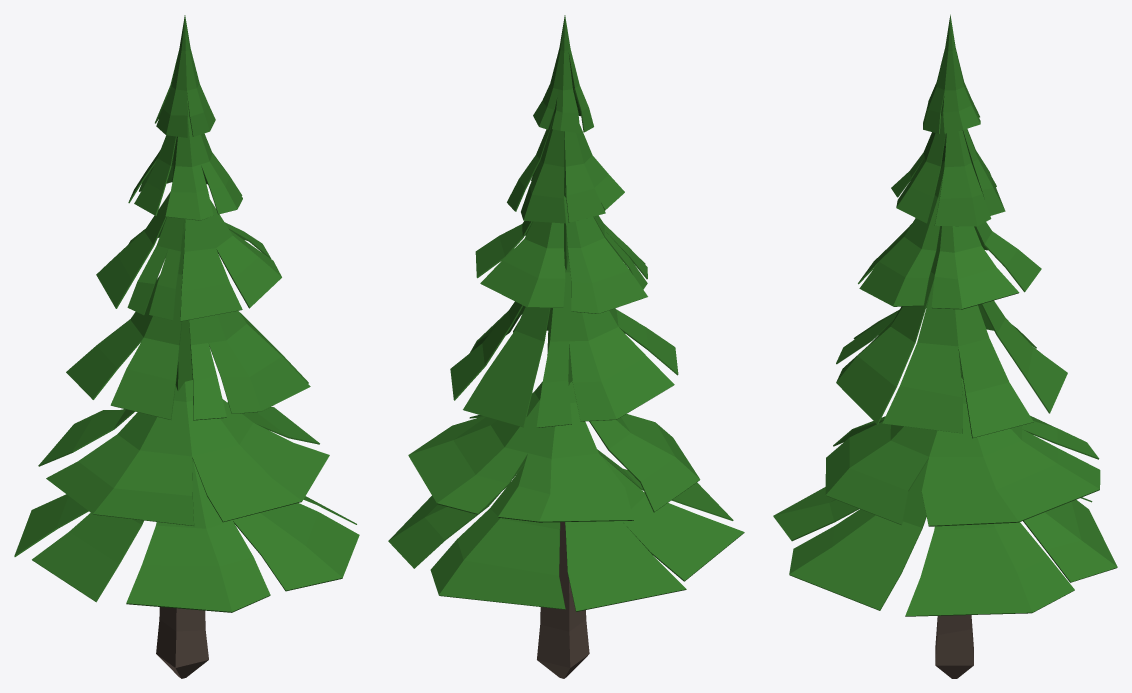
File: tree4.glb
The picture shows the model from 3 angles, left to right: view 1: azimuth 30°, elevation 25°; view 2: azimuth 150°, elevation 25°; view 3: azimuth 270°, elevation 25°; orthographic projection.
Parts seen in each view (by area): view 1: Medium Tree; view 2: Medium Tree; view 3: Medium Tree.
Part boxes in pixels (bbox=[...]): Medium Tree: bbox=[14, 15, 359, 678]; Medium Tree: bbox=[388, 15, 744, 678]; Medium Tree: bbox=[773, 14, 1117, 678].
Size of the model in its own units: 3.25 by 6.96 by 3.28.
